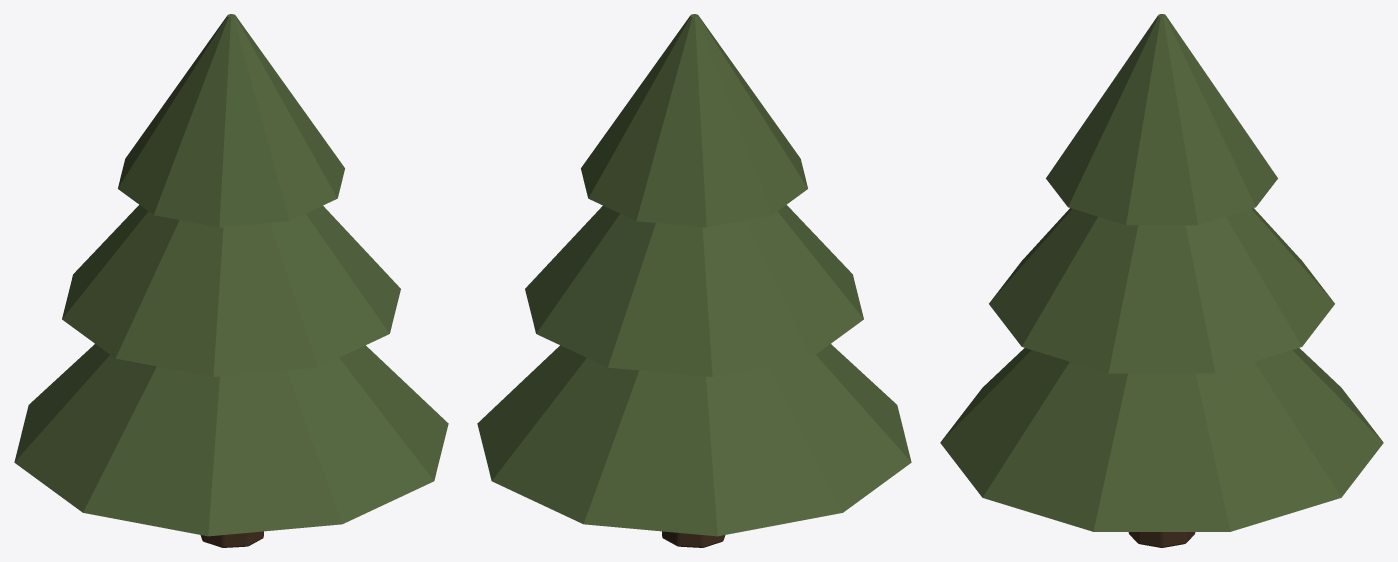
Rendered from pine_tree.glb.
The picture shows the model from 3 angles, left to right: view 1: azimuth 30°, elevation 25°; view 2: azimuth 150°, elevation 25°; view 3: azimuth 270°, elevation 25°; orthographic projection.
Parts seen in each view (by area): view 1: pine_tree; view 2: pine_tree; view 3: pine_tree.
Boxes of the visible parts, x1,y1,x2,y2 form: pine_tree: (14,14,448,547); pine_tree: (477,14,911,547); pine_tree: (940,14,1383,547).
Bounding box in the file's own units: 2 × 2.71 × 2.1.
